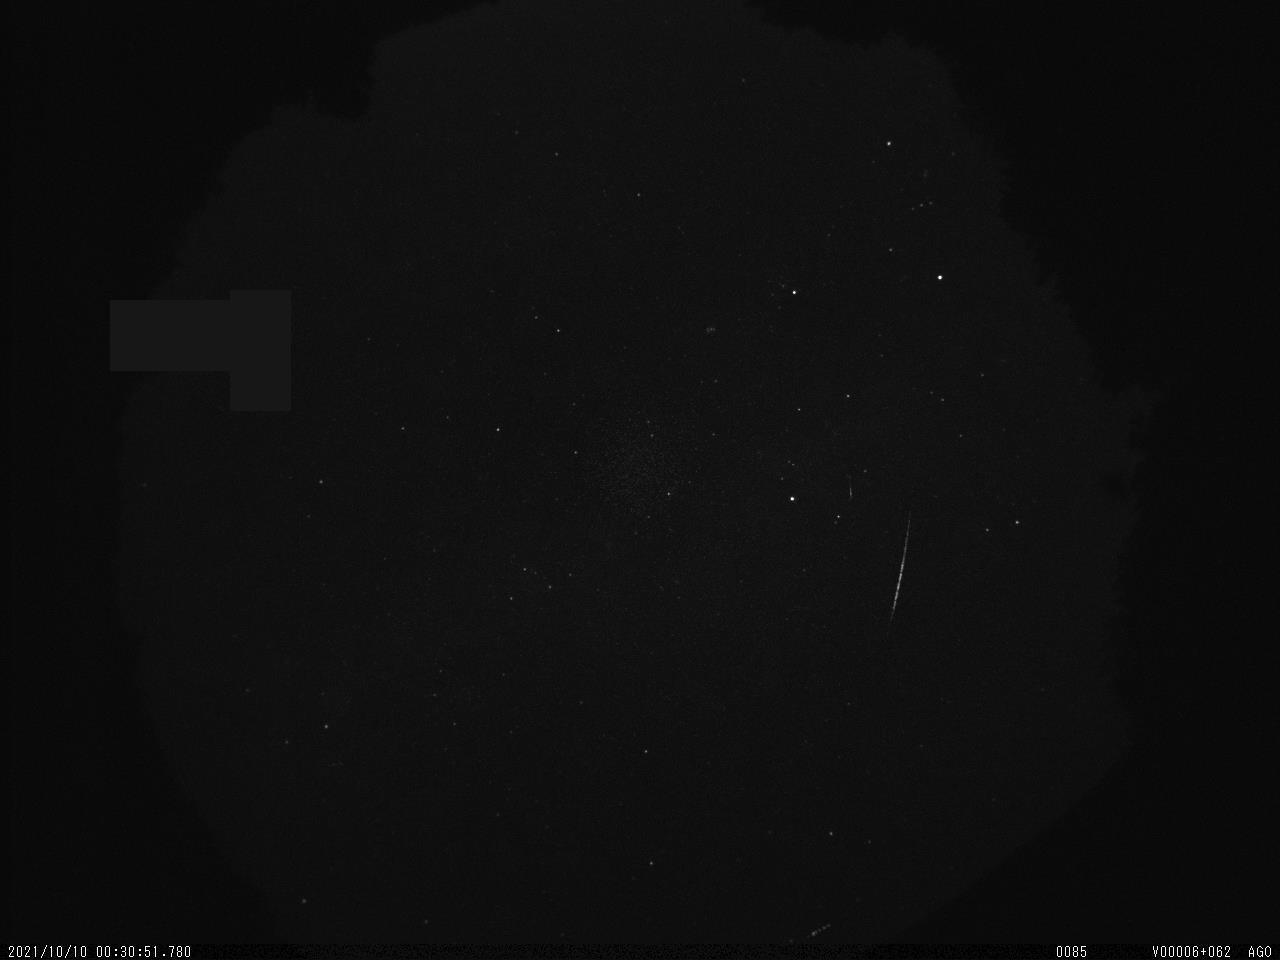meteor: (876, 511, 929, 632)
